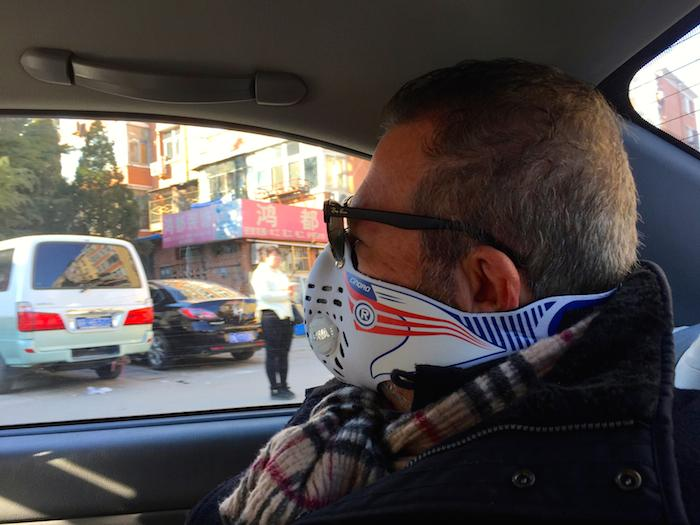Wearing Mask: (173, 81, 669, 391)
